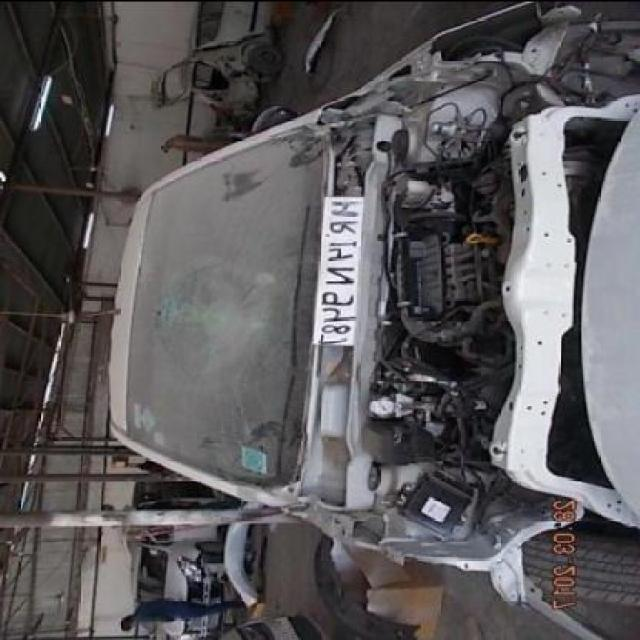damage: (380, 16, 640, 579), (121, 124, 331, 496)
